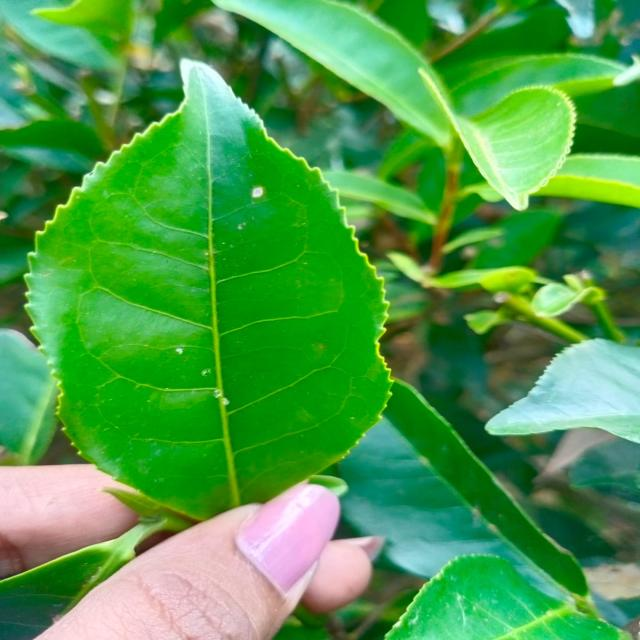Category D 7+ days, Not for Tea: (12, 47, 397, 541)
